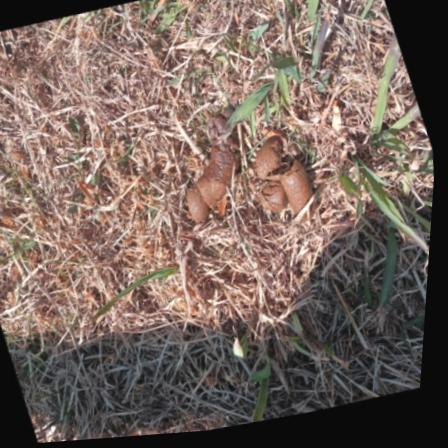dog-poop: (176, 111, 250, 237), (245, 133, 322, 232)
